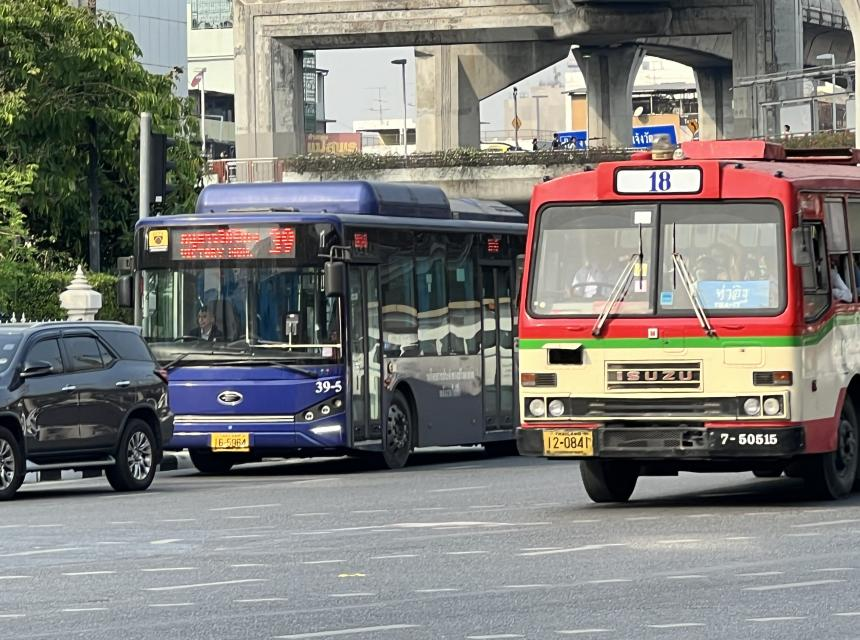BMTA-bus: (518, 142, 860, 507)
Bus Line Number: (623, 168, 700, 194), (264, 220, 300, 261)
Bus Side Number: (711, 428, 788, 450), (310, 376, 347, 393)
Destination Sign: (170, 228, 264, 263), (694, 280, 774, 310)
TSB-Bus: (119, 180, 527, 474)
